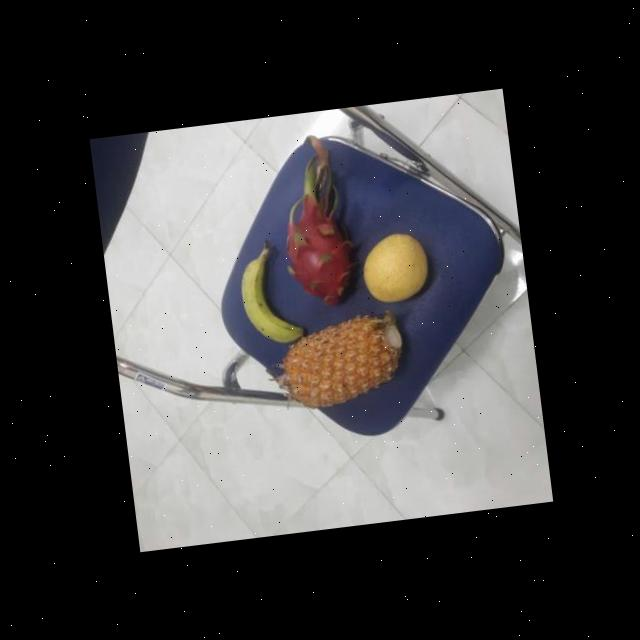banana: (236, 253, 305, 352)
pear: (358, 228, 433, 309)
pineapple: (274, 308, 408, 413)
pitaya: (280, 192, 362, 313)
